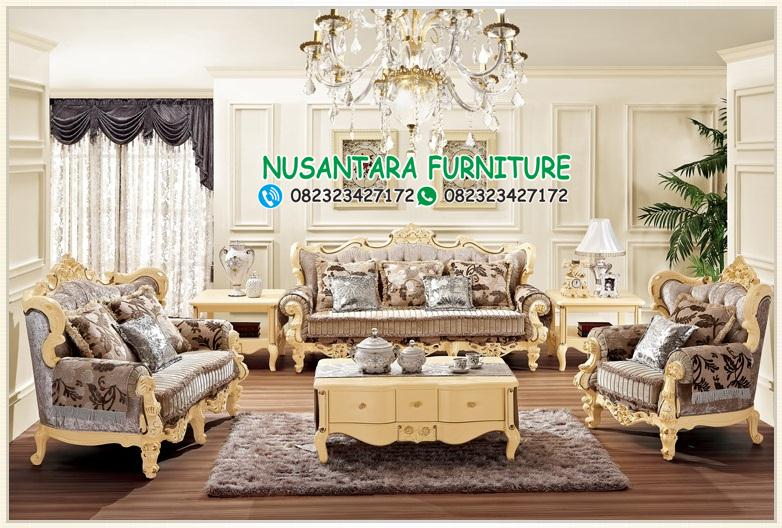Carving Chair: (28, 269, 250, 464), (274, 225, 554, 359), (598, 270, 772, 456)
Carving Table: (305, 355, 539, 471)
